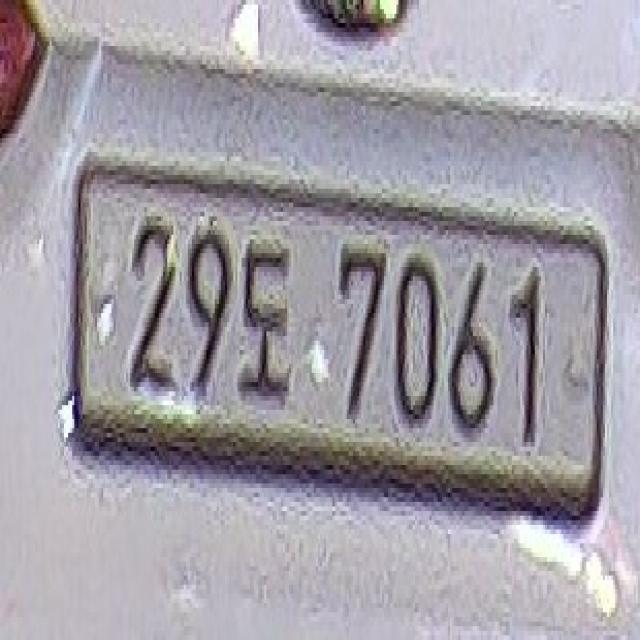plat: (72, 152, 610, 516)
